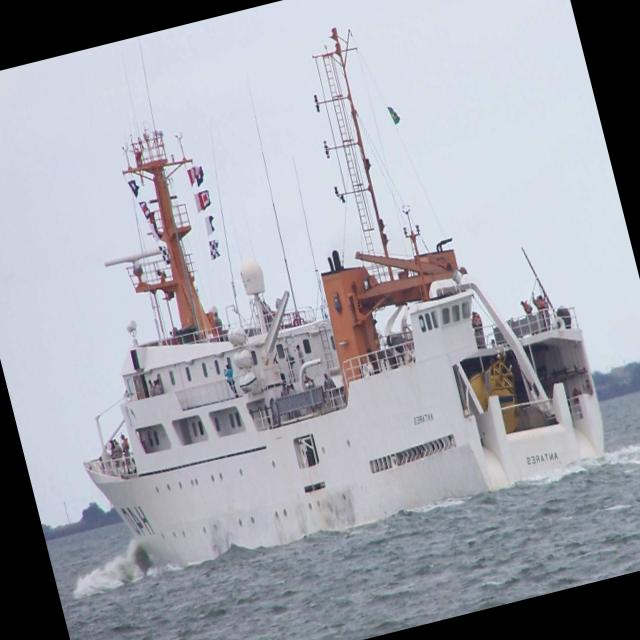Military: (84, 29, 604, 565)
